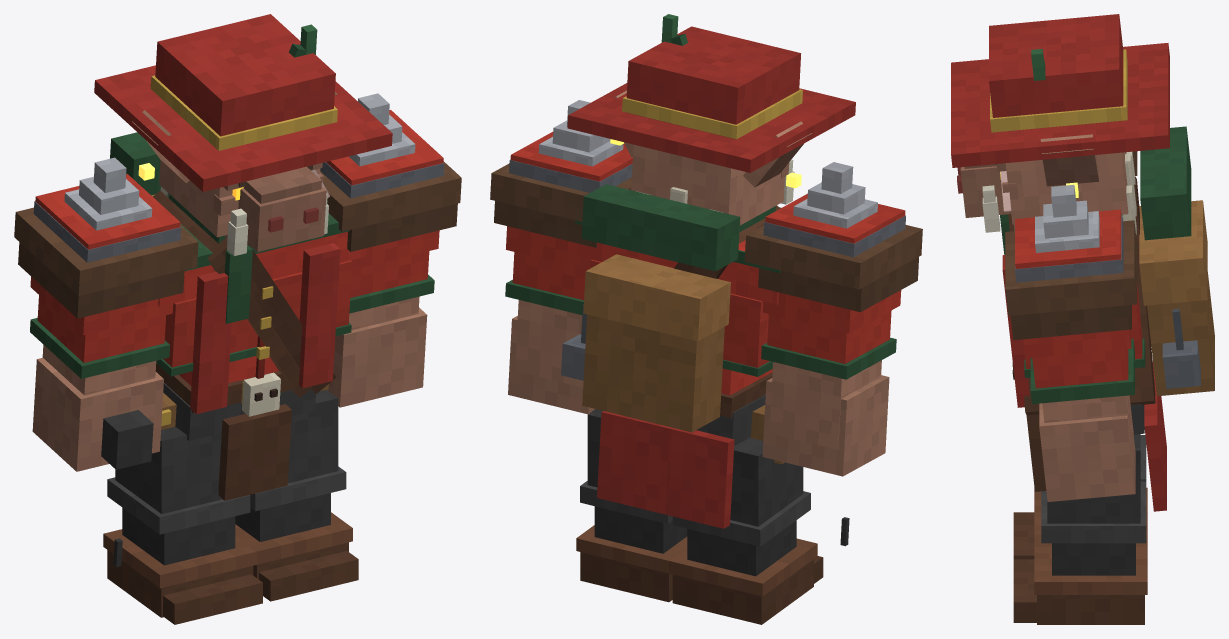
Rendered from orc_marchand_v2.glb.
3 renders of one model, left to right at view 1: azimuth 30°, elevation 25°; view 2: azimuth 150°, elevation 25°; view 3: azimuth 270°, elevation 25°, orthographic. The views are drawn at different scales.
Visible parts, largest first — view 1: Head, Torso, ArmR, ArmL, LegR, LegL, HandR; view 2: Torso, ArmR, Head, ArmL, LegR, LegL; view 3: Head, ArmL, Torso, LegL, LegR.
Part boxes in pixels (x1,y1,x2,y2): Head: [94, 14, 392, 256]; Torso: [110, 132, 366, 500]; ArmR: [14, 157, 198, 471]; ArmL: [320, 93, 461, 407]; LegR: [103, 426, 262, 624]; LegL: [235, 390, 358, 601]; HandR: [101, 410, 153, 567]; Torso: [561, 184, 784, 528]; ArmR: [744, 162, 922, 476]; Head: [567, 14, 855, 232]; ArmL: [490, 100, 632, 414]; LegR: [669, 437, 823, 624]; LegL: [576, 409, 687, 602]; Head: [951, 14, 1169, 232]; ArmL: [1005, 184, 1137, 501]; Torso: [1000, 126, 1214, 511]; LegL: [1013, 434, 1147, 624]; LegR: [1013, 435, 1147, 559].
Size of the model in its own units: 1.44 by 1.99 by 0.8605.
Materials: 41 (41 with a texture image).
